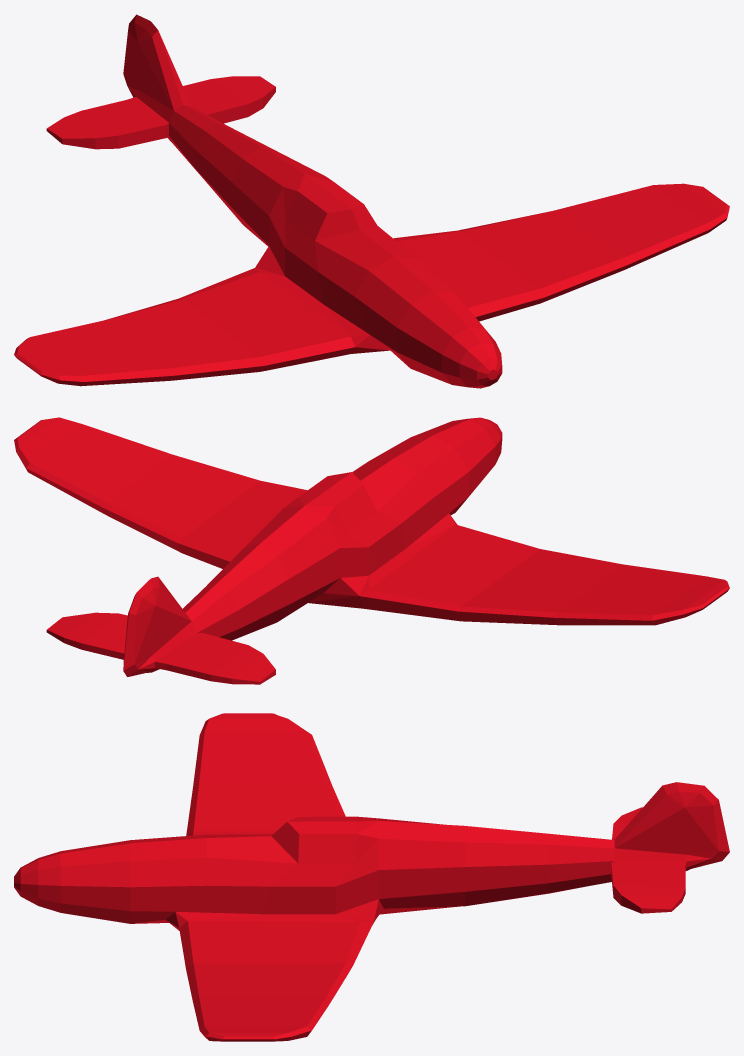
The picture shows the model from 3 angles, top to bottom: view 1: azimuth 30°, elevation 25°; view 2: azimuth 150°, elevation 25°; view 3: azimuth 270°, elevation 25°; orthographic projection. The views are drawn at different scales.
Parts seen in each view (by area): view 1: Plane1; view 2: Plane1; view 3: Plane1.
Boxes of the visible parts, box(x1,y1,x2,y2) form: Plane1: box(14, 14, 729, 388); Plane1: box(14, 417, 729, 684); Plane1: box(14, 713, 729, 1041).
Size of the model in its own units: 38.3 by 7.85 by 35.59.
